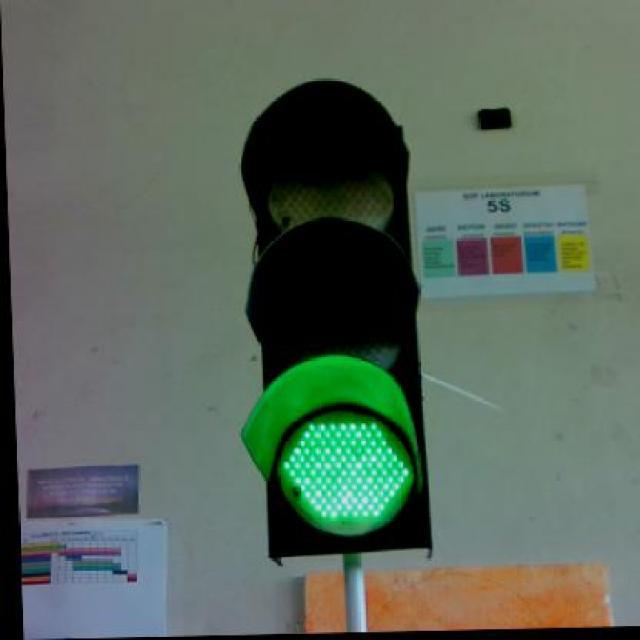traffic light: (238, 79, 433, 560)
